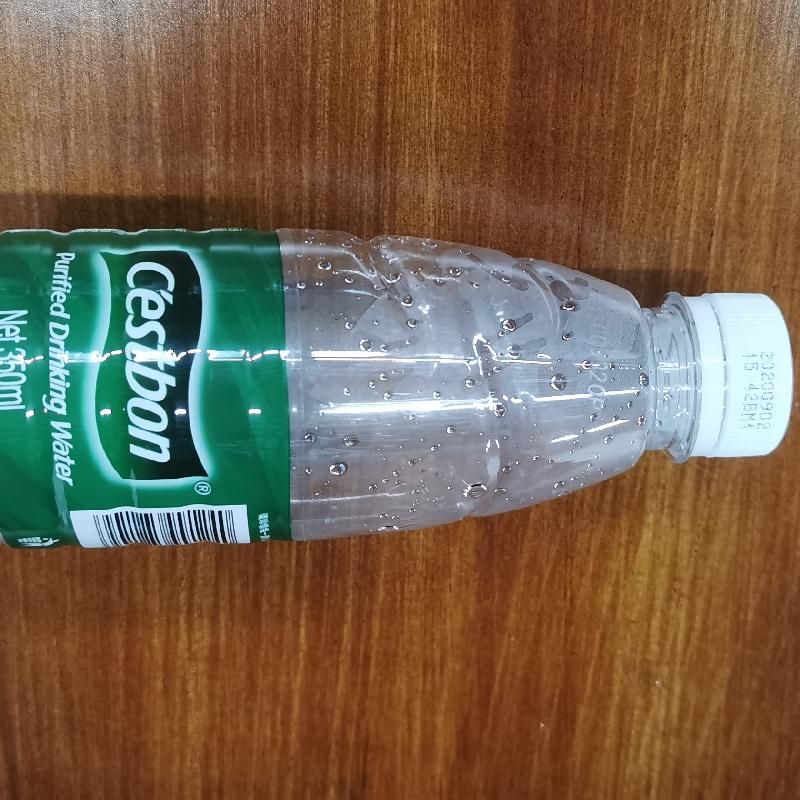bottles: (4, 220, 799, 546)
